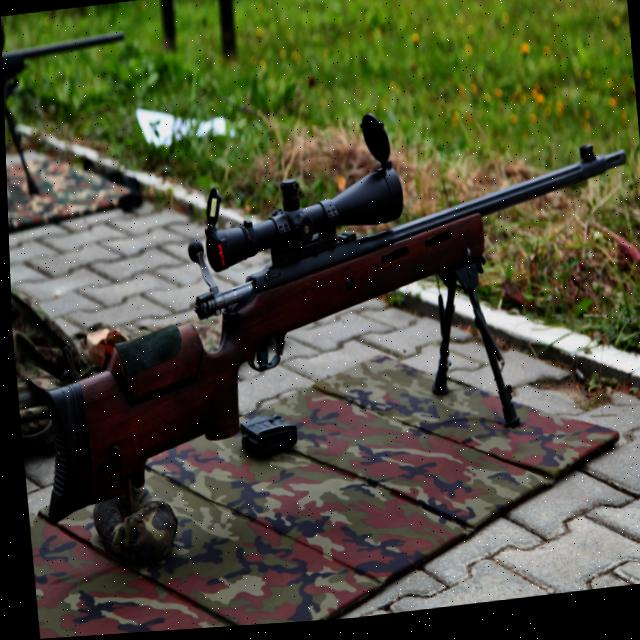firearm: (12, 92, 640, 527), (0, 3, 128, 107)
